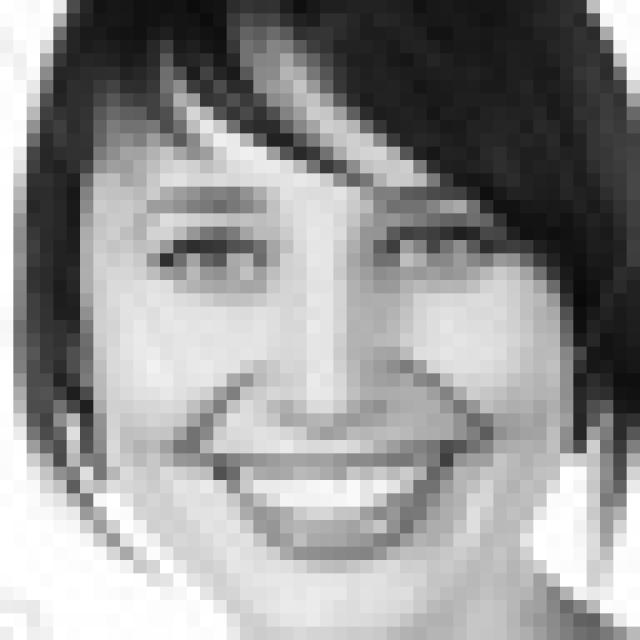happy: (120, 181, 521, 572)
